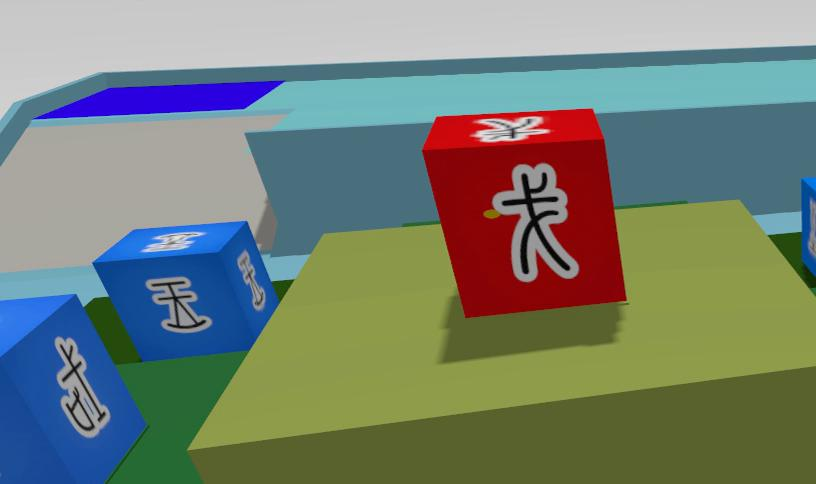KFS_FAKE: (423, 110, 624, 315), (494, 165, 577, 280), (472, 116, 547, 142)
KFS_REAL: (0, 295, 145, 484), (93, 221, 278, 359), (54, 338, 110, 437), (146, 279, 210, 332), (797, 177, 816, 276), (237, 251, 264, 309), (142, 232, 204, 252)
